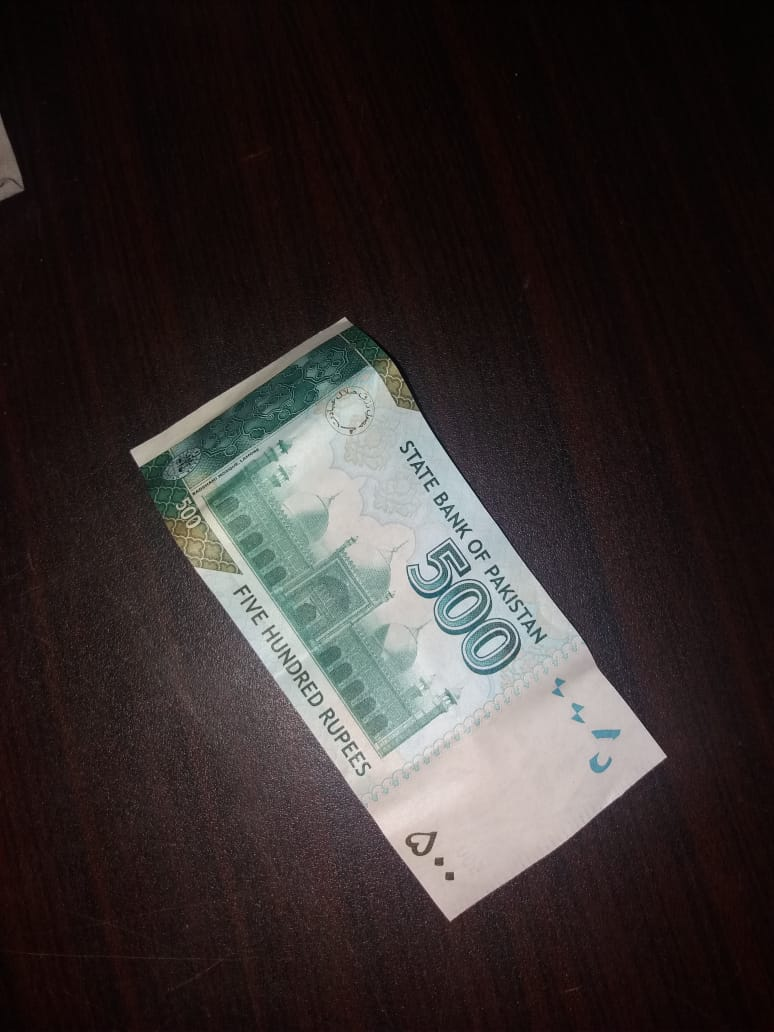500 rupee: (97, 316, 690, 938)
